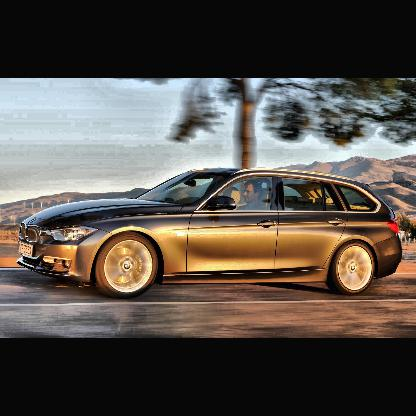BMW 3 Series Wagon 2012: (18, 166, 404, 300)
